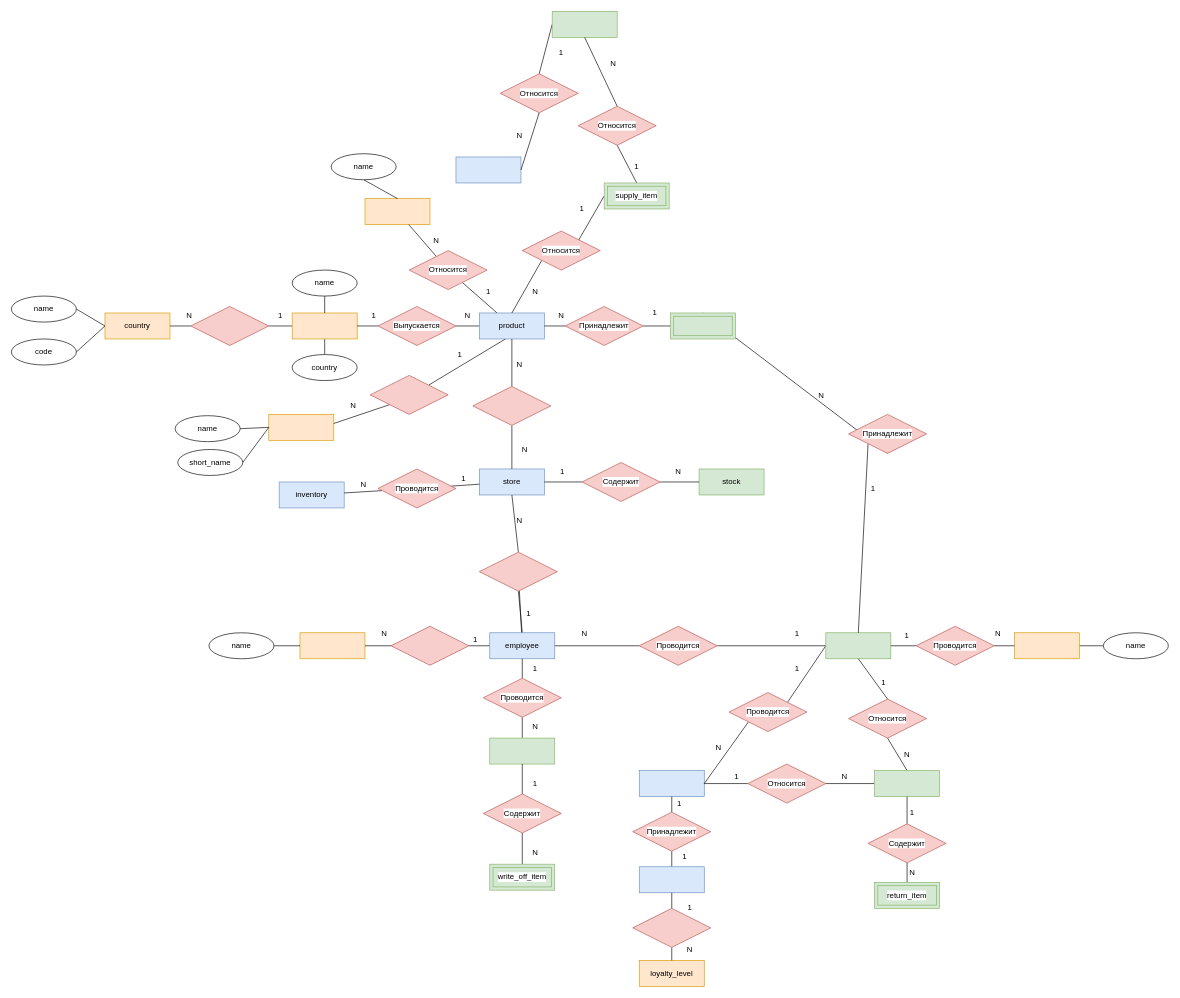
Image size: 1180x998. Some labels were removed from this diagram. The box of each missing label's shape, as (x1, y1, x2, y2) in pixels:
category: (364, 198, 430, 225)
client: (639, 770, 704, 797)
loyalty_card: (639, 866, 704, 893)
manufacturer: (292, 312, 357, 339)
paymant_type: (1014, 632, 1079, 659)
position: (299, 632, 365, 659)
return: (874, 770, 940, 797)
sale: (825, 632, 891, 659)
sale_item: (670, 312, 735, 339)
supplier: (455, 156, 521, 183)
supply: (552, 11, 617, 37)
unit: (268, 414, 334, 440)
write_off: (489, 737, 555, 764)
Занимает: (390, 626, 469, 665)
Зарегистрирован: (190, 306, 269, 345)
Измеряется: (370, 375, 448, 414)
Имеет: (632, 908, 711, 947)
Находится: (472, 386, 551, 425)
Работает: (479, 552, 557, 591)
